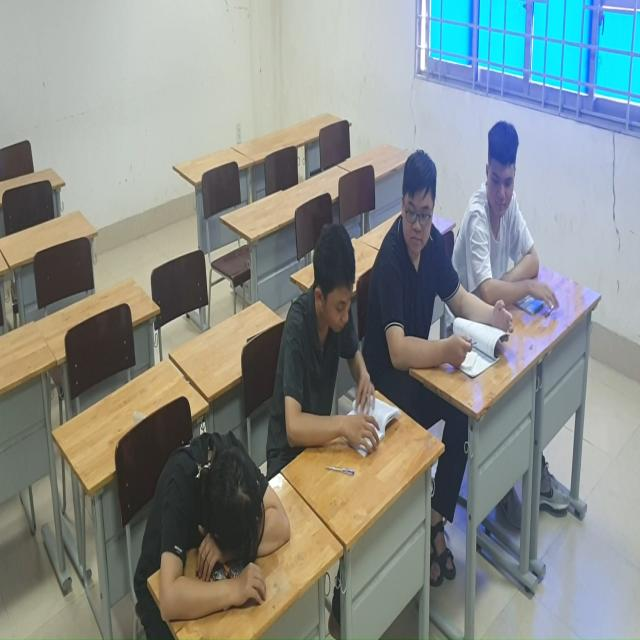read: (273, 215, 408, 467), (373, 178, 485, 425), (465, 112, 563, 319)
sleep: (124, 439, 295, 640)
